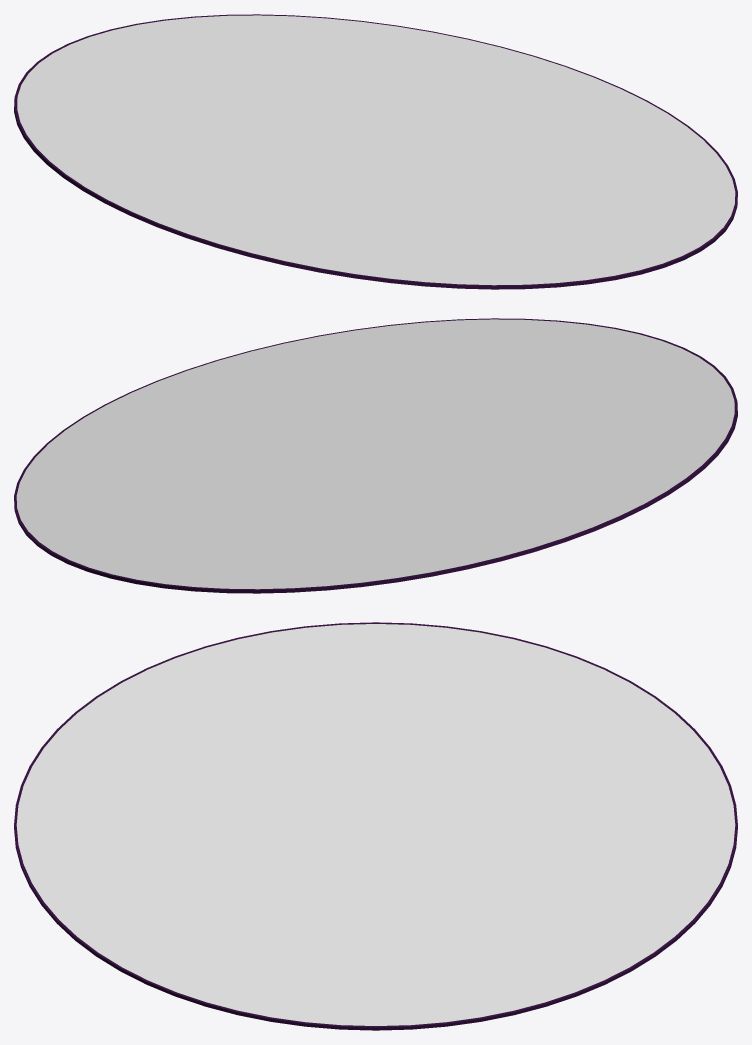
The model's file is siliconwafer.fbx.
3 views of the same model, one above another, from view 1: azimuth 30°, elevation 25°; view 2: azimuth 150°, elevation 25°; view 3: azimuth 270°, elevation 25° (orthographic).
Visible parts, largest first — view 1: Cylinder; view 2: Cylinder; view 3: Cylinder.
Boxes of the visible parts, x1,y1,x2,y2 form: Cylinder: [14, 14, 737, 289]; Cylinder: [14, 318, 737, 593]; Cylinder: [14, 622, 737, 1030].
Size of what is drawn, in the model's own units: 687 by 113 by 695.
